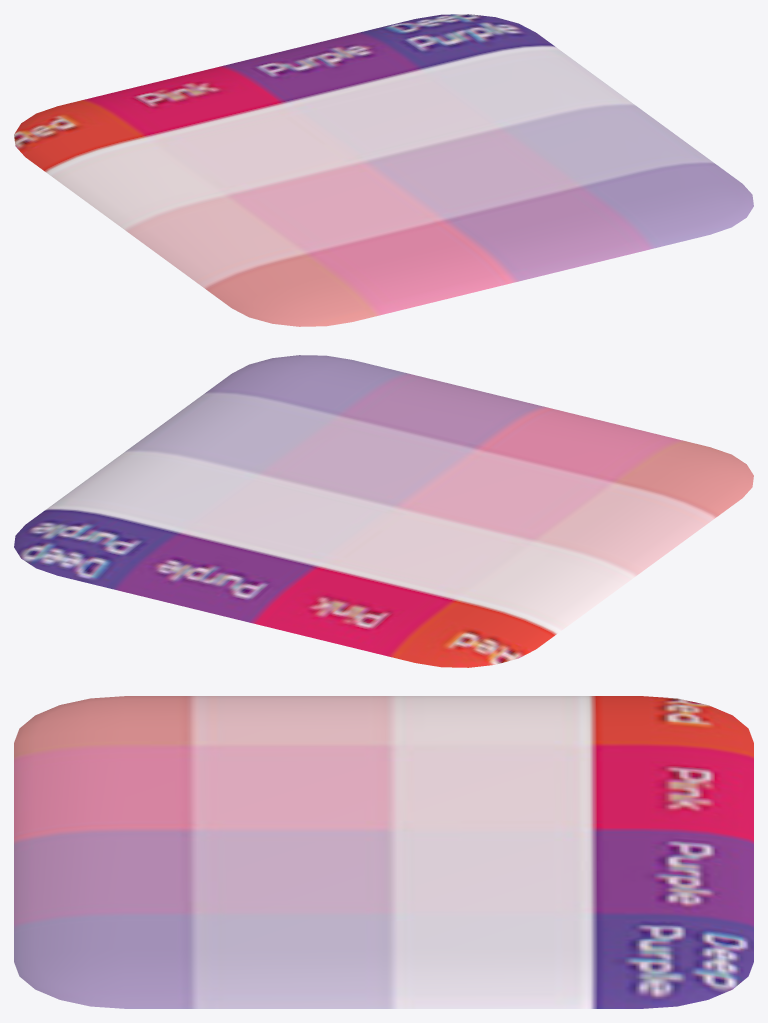
The model's file is ground1.fbx.
3 renders of one model, top to bottom at view 1: azimuth 30°, elevation 25°; view 2: azimuth 150°, elevation 25°; view 3: azimuth 270°, elevation 25°, orthographic. The views are drawn at different scales.
Parts seen in each view (by area): view 1: grid; view 2: grid; view 3: grid.
Part boxes in pixels (x1=…): grid: x1=14, y1=14, x2=753, y2=326; grid: x1=14, y1=355, x2=753, y2=667; grid: x1=14, y1=696, x2=753, y2=1008.
Size of the model in its own units: 96 by 1.85 by 96.
